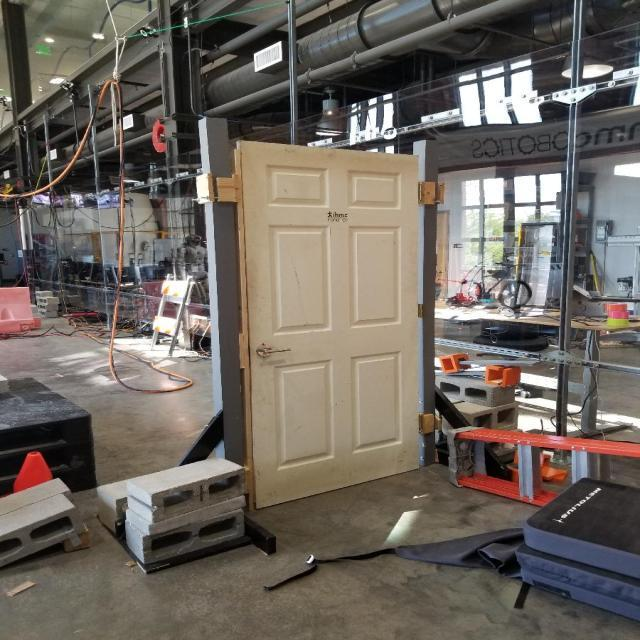door: (230, 136, 424, 514), (250, 344, 294, 362)
